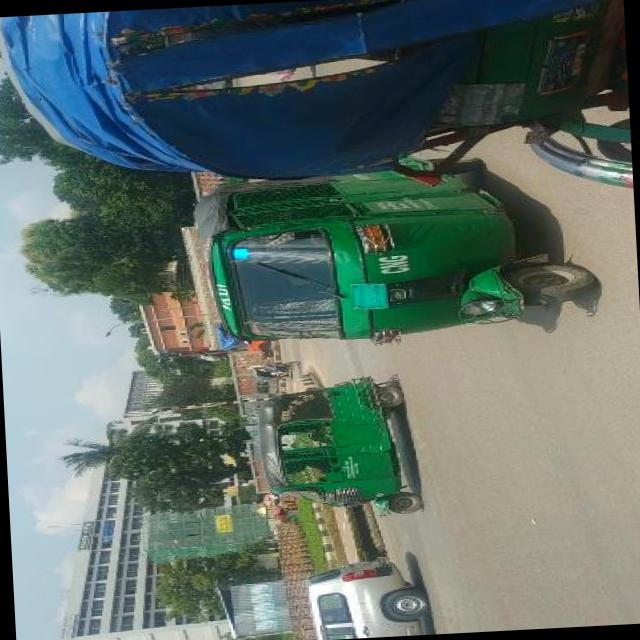car: (304, 552, 432, 640)
motorcycle: (0, 0, 630, 192), (188, 162, 602, 356), (259, 376, 426, 525), (249, 359, 307, 384)
